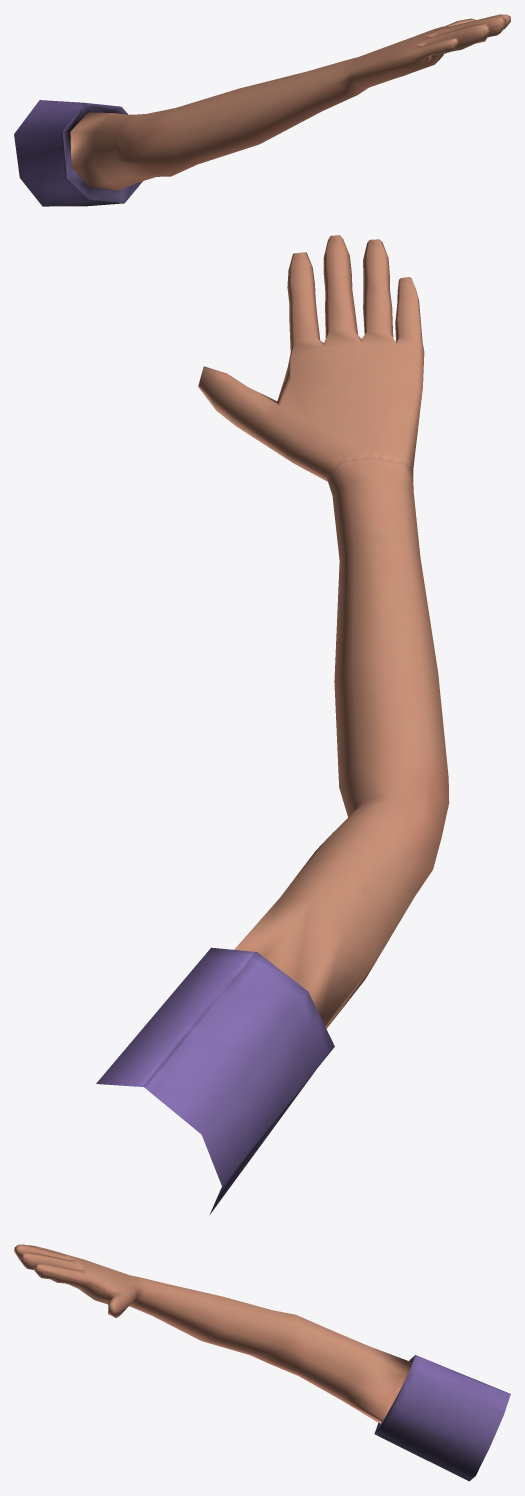
File: man_standing_waving_arm.glb
3 views of the same model, one above another, from view 1: azimuth 30°, elevation 25°; view 2: azimuth 150°, elevation 25°; view 3: azimuth 270°, elevation 25° (orthographic). The views are drawn at different scales.
Visible parts, largest first — view 1: world; view 2: world; view 3: world.
Part boxes in pixels (x1=…): world: x1=14, y1=14, x2=510, y2=206; world: x1=96, y1=235, x2=449, y2=1214; world: x1=14, y1=1244, x2=510, y2=1481.
Size of the model in its own units: 0.2515 by 0.3366 by 0.5206.
Materials: 1 (1 with a texture image).
